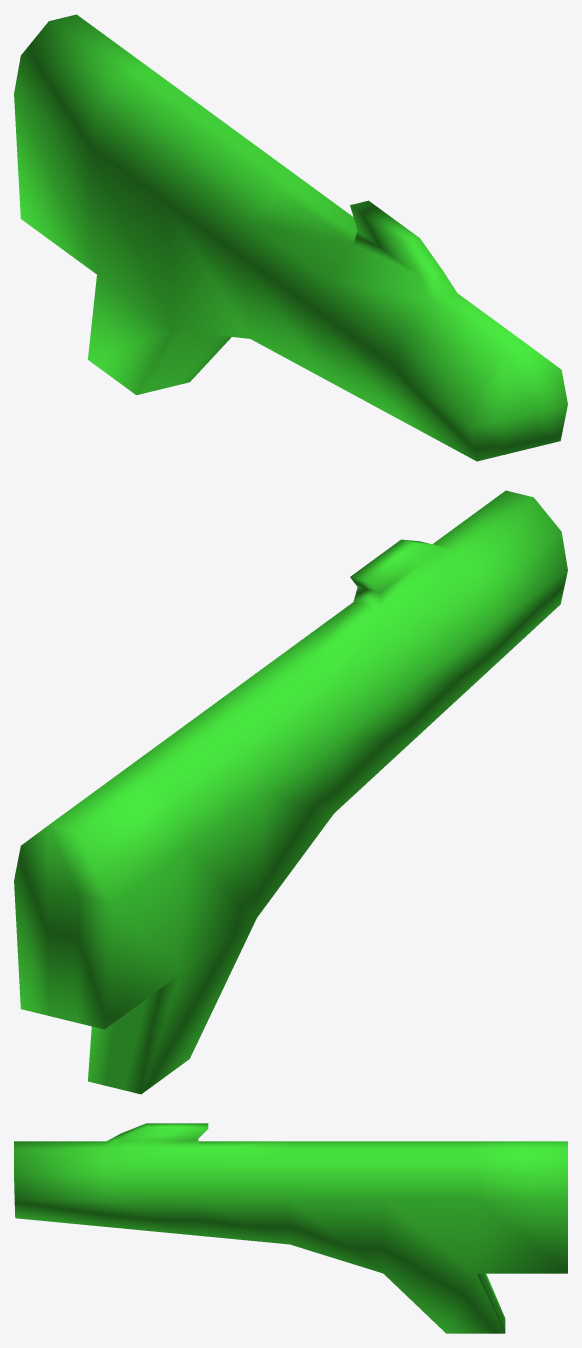
The model's file is weapon.gltf.
The picture shows the model from 3 angles, top to bottom: view 1: azimuth 30°, elevation 25°; view 2: azimuth 150°, elevation 25°; view 3: azimuth 270°, elevation 25°; orthographic projection. The views are drawn at different scales.
Parts seen in each view (by area): view 1: Cube; view 2: Cube; view 3: Cube.
Boxes of the visible parts, x1,y1,x2,y2 form: Cube: (14, 14, 567, 461); Cube: (14, 490, 567, 1094); Cube: (14, 1123, 567, 1333).
Size of the model in its own units: 0.086 by 0.2779 by 0.6987.
